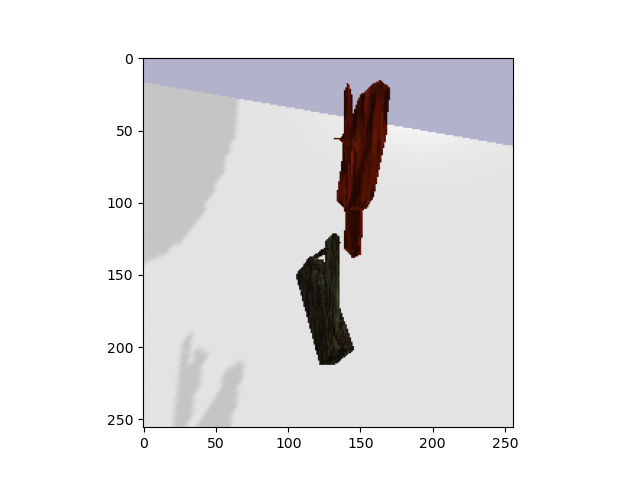v249b387_107: (335, 80, 395, 262)
v249b387_109: (292, 236, 357, 376)
